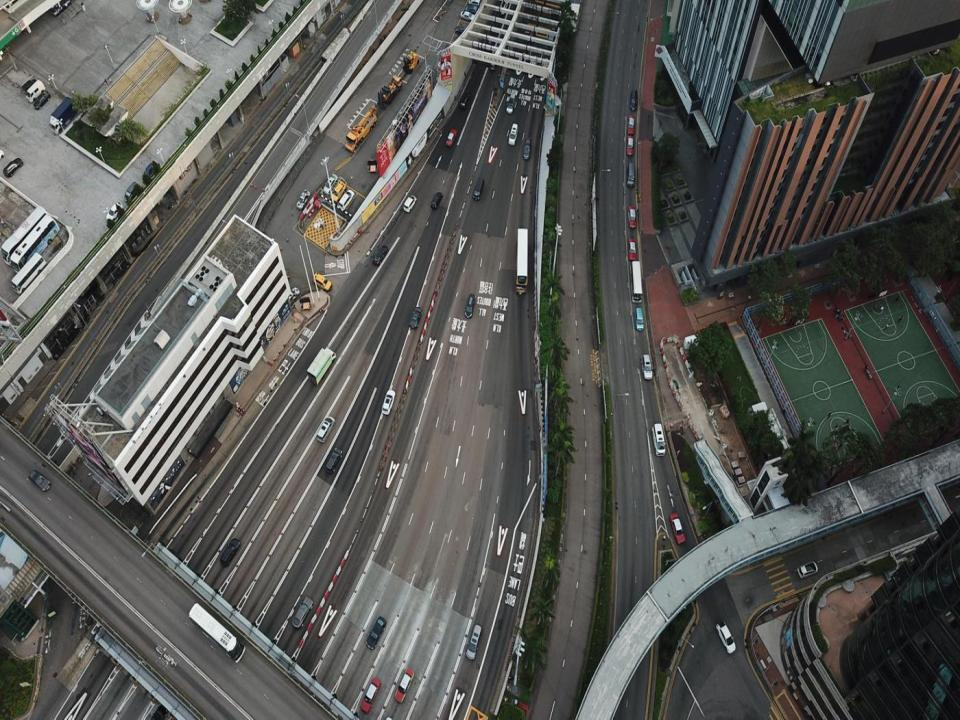bus: (9, 214, 60, 276), (0, 205, 51, 265), (10, 252, 47, 295), (516, 228, 527, 294), (630, 262, 642, 302)
car: (360, 677, 381, 713), (365, 616, 387, 649), (394, 667, 414, 703), (292, 596, 313, 628), (716, 622, 736, 654), (669, 512, 685, 544), (29, 470, 51, 491), (381, 388, 396, 415), (3, 158, 22, 177), (798, 560, 818, 578), (322, 172, 338, 194), (106, 202, 123, 221), (409, 306, 423, 328), (34, 91, 50, 110), (372, 245, 388, 264), (284, 287, 300, 305), (296, 189, 310, 209), (445, 129, 457, 147), (430, 192, 442, 208), (628, 206, 636, 228), (628, 238, 636, 260), (460, 11, 476, 21), (626, 136, 634, 156), (627, 115, 635, 134), (455, 26, 469, 36), (465, 4, 478, 14), (527, 28, 536, 42), (500, 0, 509, 12), (489, 54, 496, 69)
truck: (187, 602, 246, 664), (344, 105, 376, 152), (307, 347, 336, 386), (50, 97, 78, 134), (378, 73, 402, 109)
van: (220, 538, 242, 567), (466, 624, 482, 661), (316, 416, 336, 442), (651, 423, 666, 456), (325, 447, 342, 473), (26, 80, 46, 102), (312, 272, 332, 292), (330, 180, 346, 204), (338, 189, 355, 209), (123, 181, 138, 202), (464, 293, 476, 318), (641, 354, 652, 380), (633, 307, 644, 331), (507, 122, 518, 146), (473, 177, 484, 200), (142, 163, 156, 181), (403, 195, 417, 213), (22, 80, 38, 94), (522, 138, 532, 160), (506, 94, 516, 114), (627, 163, 635, 187), (630, 90, 638, 110), (460, 93, 470, 109), (547, 26, 556, 42), (467, 0, 480, 6)
